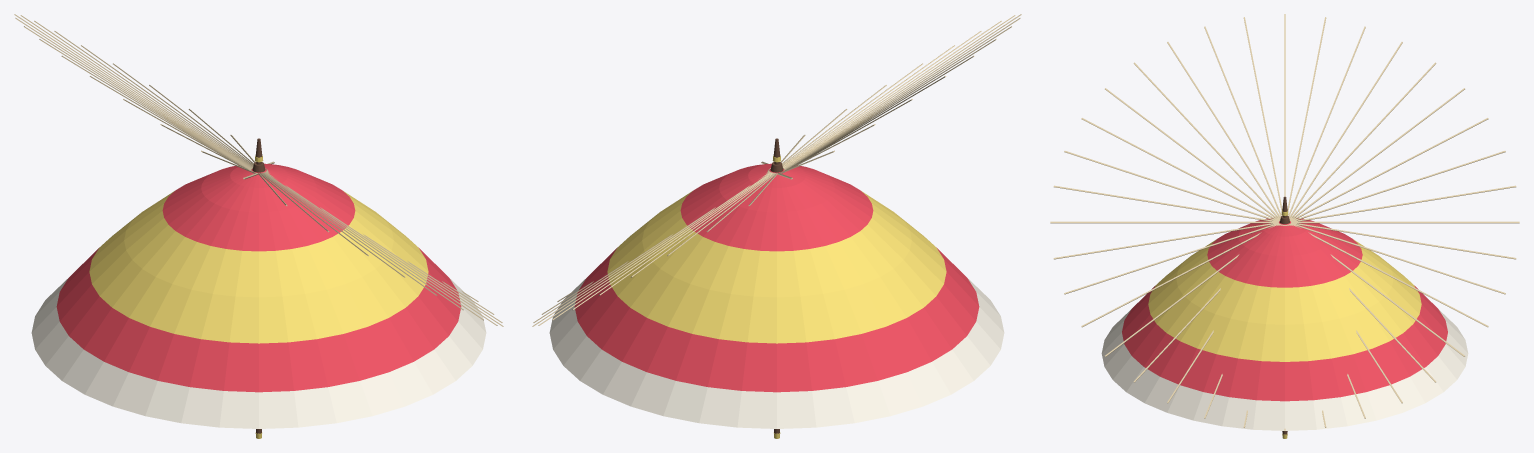
File: craft_wagasa.glb
3 views of the same model, side by side, from view 1: azimuth 30°, elevation 25°; view 2: azimuth 150°, elevation 25°; view 3: azimuth 270°, elevation 25° (orthographic). The views are drawn at different scales.
Visible parts, largest first — view 1: Wagasa_Canopy; view 2: Wagasa_Canopy; view 3: Wagasa_Canopy, Wagasa_Rib_09, Wagasa_Rib_27, Wagasa_Rib_08, Wagasa_Rib_28, Wagasa_Rib_10, Wagasa_Rib_26, Wagasa_Rib_11, Wagasa_Rib_25, Wagasa_Rib_07, Wagasa_Rib_29, Wagasa_Rib_12 (+5 smaller).
Part boxes in pixels (box(x1,y1,x2,y2)): Wagasa_Canopy: box(31, 163, 486, 428); Wagasa_Canopy: box(549, 163, 1004, 428); Wagasa_Canopy: box(1101, 218, 1468, 430); Wagasa_Rib_09: box(1291, 221, 1519, 223); Wagasa_Rib_27: box(1050, 221, 1278, 223); Wagasa_Rib_08: box(1291, 222, 1516, 259); Wagasa_Rib_28: box(1053, 222, 1278, 259); Wagasa_Rib_10: box(1291, 185, 1516, 221); Wagasa_Rib_26: box(1053, 185, 1278, 221); Wagasa_Rib_11: box(1290, 151, 1505, 221); Wagasa_Rib_25: box(1064, 151, 1279, 221); Wagasa_Rib_07: box(1291, 223, 1505, 294); Wagasa_Rib_29: box(1064, 223, 1278, 294); Wagasa_Rib_12: box(1290, 118, 1488, 220).
Bounding box in the file's own units: 1.52 × 1.59 × 1.95.
